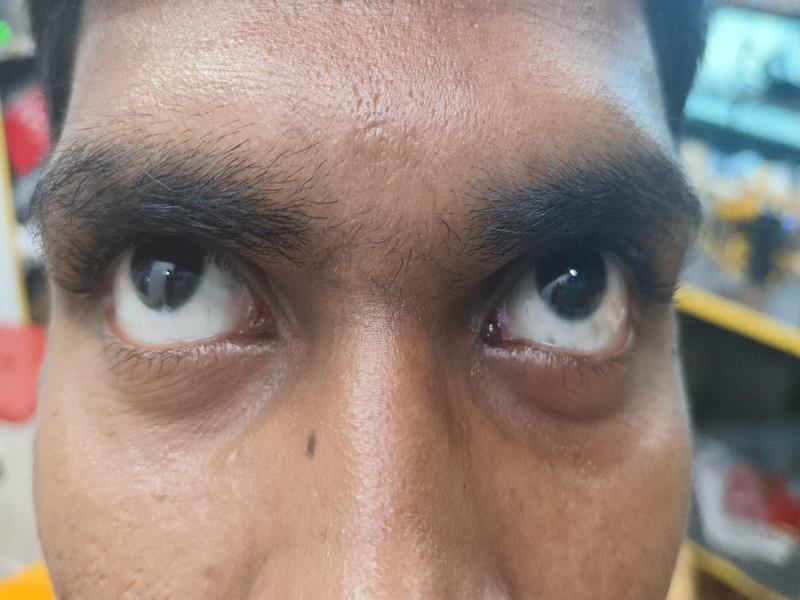EYE UP: (100, 240, 246, 348), (493, 251, 636, 356)
